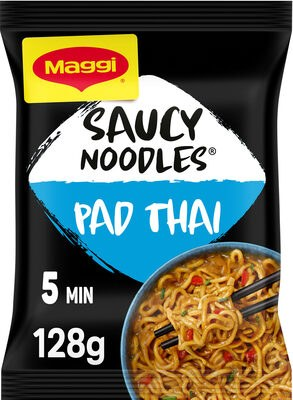MAGGI Nouilles Saveur Pad Thai - Sachet de 128g: (15, 20, 278, 380)
